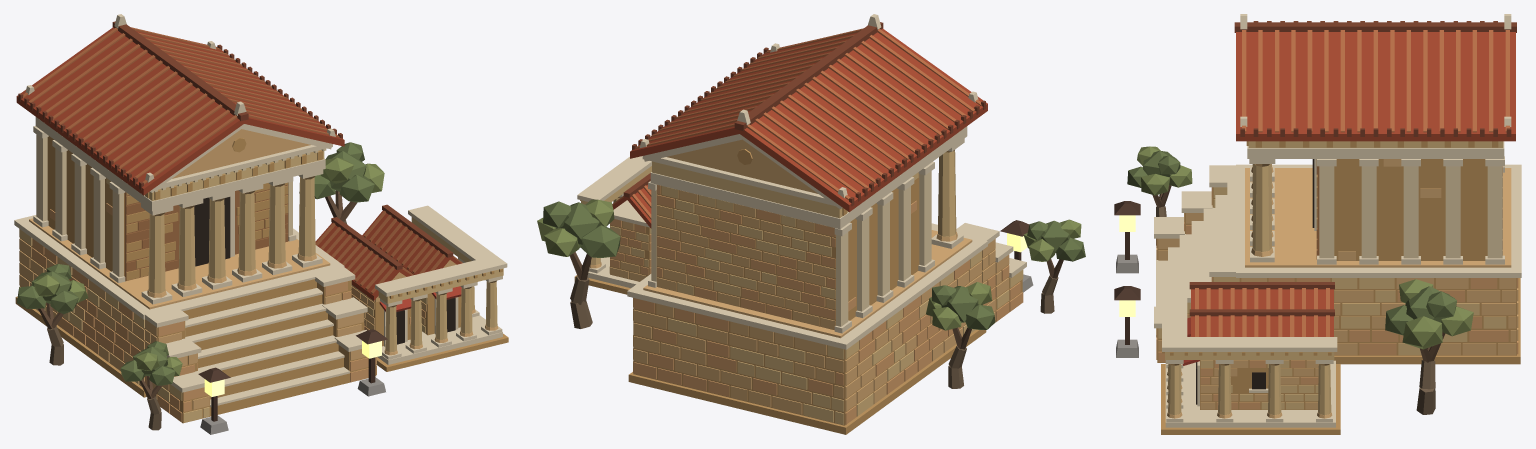
The model's file is colonnade_city.glb.
3 renders of one model, left to right at view 1: azimuth 30°, elevation 25°; view 2: azimuth 150°, elevation 25°; view 3: azimuth 270°, elevation 25°, orthographic. The views are drawn at different scales.
Visible parts, largest first — view 1: colonnade_city_CC_StoneLight, colonnade_city_CC_HoneyShade, colonnade_city_CC_RoofTerracotta, colonnade_city_CC_Terracotta, colonnade_city_CC_Honey, colonnade_city_CC_HoneyMid, colonnade_city_CC_HoneyLight, colonnade_city_CC_HoneyDeep, colonnade_city_CC_Olive, colonnade_city_CC_RoofTerracottaFascia, colonnade_city_CC_PorchShade, colonnade_city_CC_OliveLight (+8 smaller); view 2: colonnade_city_CC_HoneyMid, colonnade_city_CC_RoofTerracotta, colonnade_city_CC_StoneLight, colonnade_city_CC_HoneyShade, colonnade_city_CC_HoneyDeep, colonnade_city_CC_Terracotta, colonnade_city_CC_Honey, colonnade_city_CC_HoneyLight, colonnade_city_CC_Olive, colonnade_city_CC_RoofTerracottaFascia, colonnade_city_CC_OliveLight, colonnade_city_CC_Bark (+1 smaller); view 3: colonnade_city_CC_RoofTerracotta, colonnade_city_CC_StoneLight, colonnade_city_CC_HoneyShade, colonnade_city_CC_HoneyMid, colonnade_city_CC_Honey, colonnade_city_CC_Terracotta, colonnade_city_CC_HoneyLight, colonnade_city_CC_RoofTerracottaFascia, colonnade_city_CC_HoneyDeep, colonnade_city_CC_OliveLight, colonnade_city_CC_Olive, colonnade_city_WarmMini_wooddark (+4 smaller).
Boxes of the visible parts, box(x1,y1,x2,y2) form: colonnade_city_CC_StoneLight: box(14, 14, 507, 407); colonnade_city_CC_HoneyShade: box(15, 136, 508, 423); colonnade_city_CC_RoofTerracotta: box(16, 27, 461, 300); colonnade_city_CC_Terracotta: box(22, 27, 462, 294); colonnade_city_CC_Honey: box(19, 150, 503, 422); colonnade_city_CC_HoneyMid: box(19, 129, 498, 409); colonnade_city_CC_HoneyLight: box(36, 134, 326, 277); colonnade_city_CC_HoneyDeep: box(19, 203, 425, 422); colonnade_city_CC_Olive: box(17, 142, 374, 385); colonnade_city_CC_RoofTerracottaFascia: box(18, 21, 453, 269); colonnade_city_CC_PorchShade: box(124, 184, 288, 281); colonnade_city_CC_OliveLight: box(34, 157, 384, 376); colonnade_city_CC_HoneyMid: box(589, 139, 1009, 414); colonnade_city_CC_RoofTerracotta: box(612, 28, 987, 228); colonnade_city_CC_StoneLight: box(577, 14, 1026, 349); colonnade_city_CC_HoneyShade: box(574, 149, 1022, 434); colonnade_city_CC_HoneyDeep: box(609, 184, 1023, 424); colonnade_city_CC_Terracotta: box(612, 28, 981, 219); colonnade_city_CC_Honey: box(581, 150, 1023, 424); colonnade_city_CC_HoneyLight: box(651, 171, 931, 326); colonnade_city_CC_Olive: box(543, 201, 1085, 329); colonnade_city_CC_RoofTerracottaFascia: box(623, 22, 985, 206); colonnade_city_CC_OliveLight: box(537, 199, 1081, 330); colonnade_city_CC_Bark: box(570, 275, 1058, 388); colonnade_city_CC_RoofTerracotta: box(1191, 32, 1515, 336); colonnade_city_CC_StoneLight: box(1154, 14, 1521, 427); colonnade_city_CC_HoneyShade: box(1157, 141, 1520, 434); colonnade_city_CC_HoneyMid: box(1156, 159, 1518, 418); colonnade_city_CC_Honey: box(1158, 141, 1506, 415); colonnade_city_CC_Terracotta: box(1195, 30, 1509, 336); colonnade_city_CC_HoneyLight: box(1319, 166, 1502, 258); colonnade_city_CC_RoofTerracottaFascia: box(1189, 21, 1516, 316); colonnade_city_CC_HoneyDeep: box(1156, 166, 1518, 409); colonnade_city_CC_OliveLight: box(1137, 146, 1473, 349); colonnade_city_CC_Olive: box(1127, 150, 1456, 335); colonnade_city_WarmMini_wooddark: box(1114, 201, 1140, 344).
Size of the model in its own units: 4.38 by 2.85 by 3.53.
